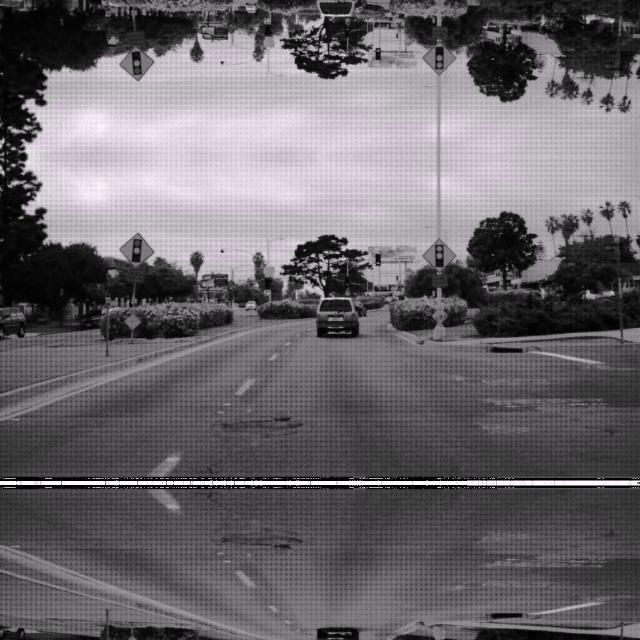signalAhead: (118, 231, 154, 267), (118, 45, 154, 81), (422, 236, 456, 272), (422, 40, 456, 76)
